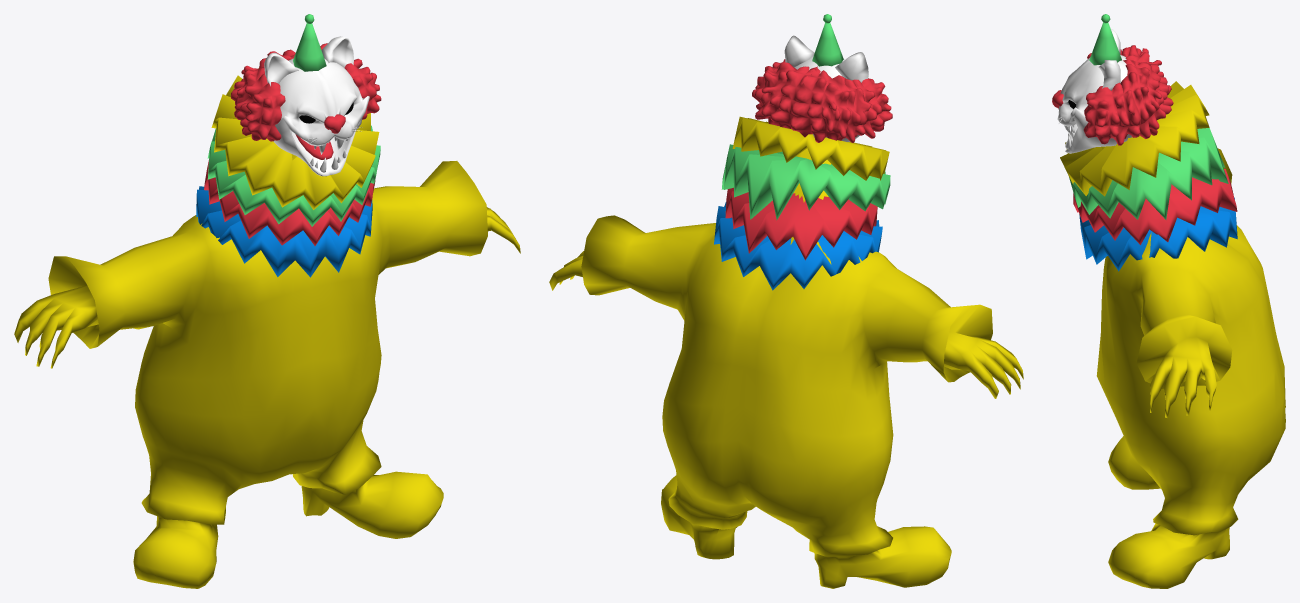
File: pelle_ilmanUVM_ilmanTEX.fbx
3 views of the same model, side by side, from view 1: azimuth 30°, elevation 25°; view 2: azimuth 150°, elevation 25°; view 3: azimuth 270°, elevation 25° (orthographic). The views are drawn at different scales.
Visible parts, largest first — view 1: kroppa, kaulus.003, pää, kaulus, hiukset, kaulus.002, kaulus.001, korvat, hattu; view 2: kroppa, hiukset, kaulus.002, kaulus.001, kaulus, kaulus.003, korvat, hattu; view 3: kroppa, kaulus.003, hiukset, kaulus.002, kaulus, kaulus.001, pää, hattu, korvat.
Part boxes in pixels (x1,y1,x2,y2): kroppa: (14, 154, 520, 588); kaulus.003: (211, 68, 379, 209); pää: (273, 58, 369, 176); kaulus: (196, 186, 372, 277); hiukset: (231, 43, 381, 141); kaulus.002: (207, 125, 380, 226); kaulus.001: (204, 160, 375, 245); korvat: (264, 36, 353, 86); hattu: (293, 14, 326, 71); kroppa: (549, 148, 1023, 588); hiukset: (752, 59, 892, 142); kaulus.002: (721, 144, 890, 220); kaulus.001: (725, 187, 877, 260); kaulus: (714, 202, 882, 290); kaulus.003: (732, 116, 889, 180); korvat: (784, 35, 868, 82); hattu: (812, 14, 843, 66); kroppa: (1096, 146, 1285, 588); kaulus.003: (1060, 81, 1209, 196); hiukset: (1083, 45, 1173, 145); kaulus.002: (1069, 128, 1228, 219); kaulus: (1079, 197, 1237, 271); kaulus.001: (1073, 169, 1237, 244); pää: (1057, 55, 1132, 153); hattu: (1089, 14, 1121, 65); korvat: (1098, 29, 1120, 90).
Size of the model in its own units: 4.79 by 5.32 by 2.18.
